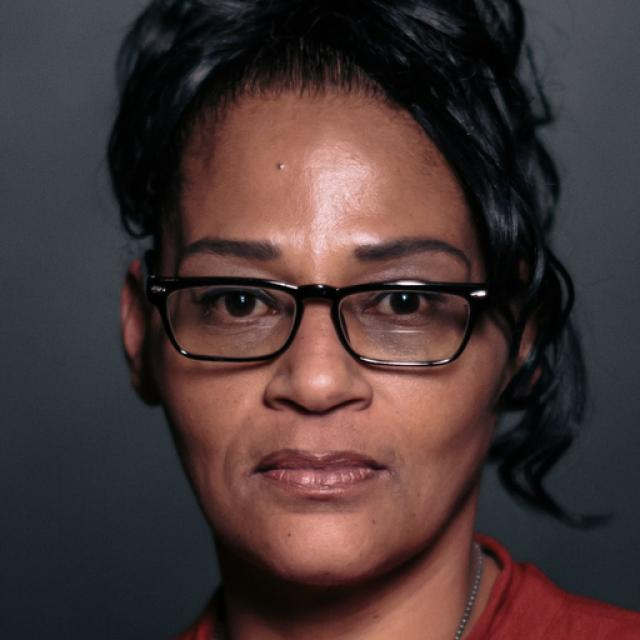Acne: (267, 153, 294, 180)
